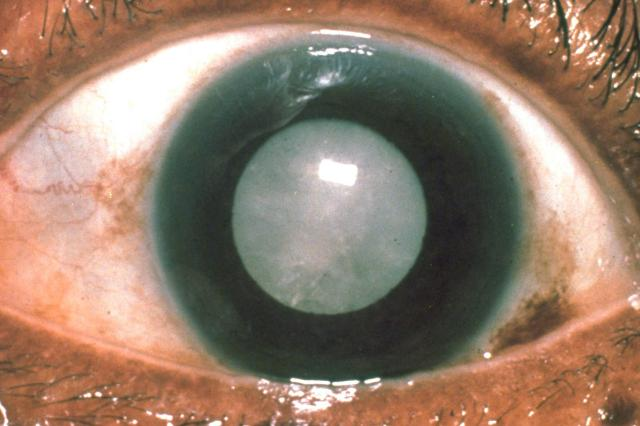eye: (148, 30, 538, 396)
